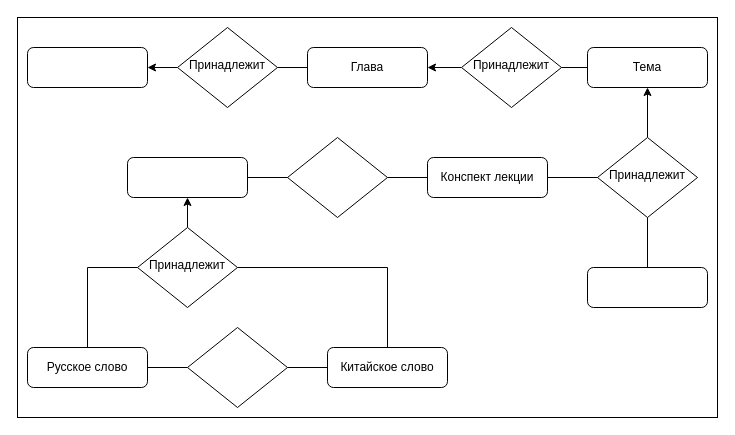
This 735x435 diagram has some shape labels left out. The shapes that lost their labels are listed below. From the top down, each one's centre as x and y in pixels, then its label:
At pixel 87 67: "Раздел".
At pixel 187 177: "Словарь".
At pixel 337 177: "Содержит".
At pixel 647 287: "Задание".
At pixel 237 367: "Перевод".
